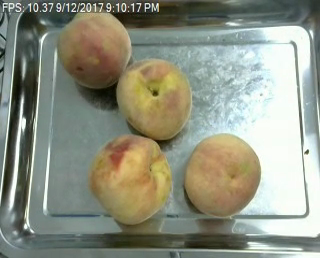Peach: (87, 132, 171, 223), (185, 132, 262, 216), (56, 7, 133, 89), (117, 58, 193, 141)
